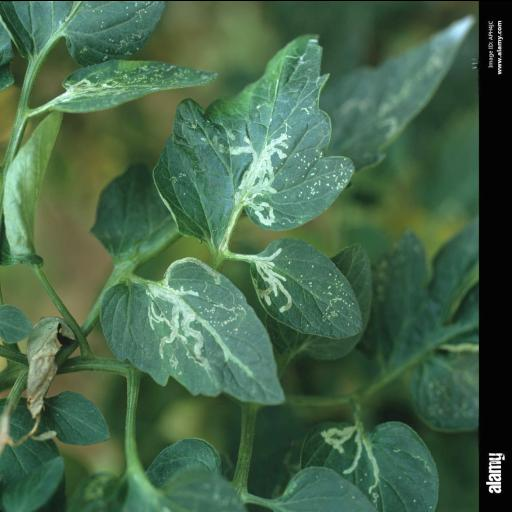disease_tomato: (150, 30, 356, 235), (99, 256, 285, 408), (246, 237, 364, 341)
